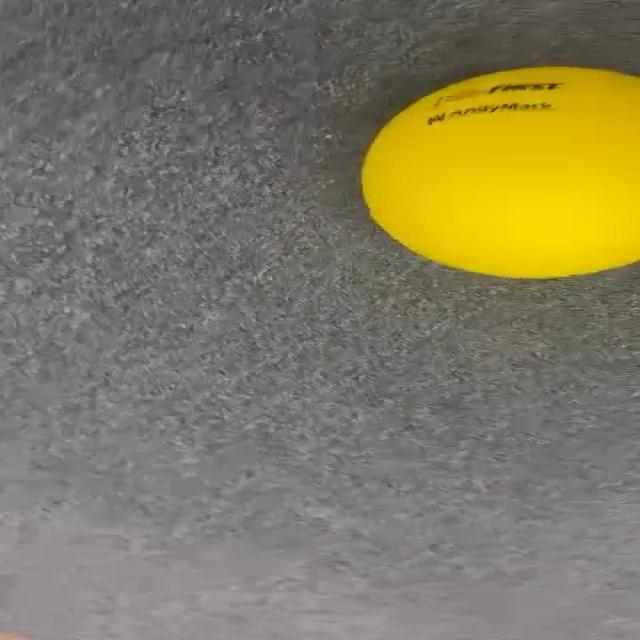Fuels: (355, 64, 640, 277)
